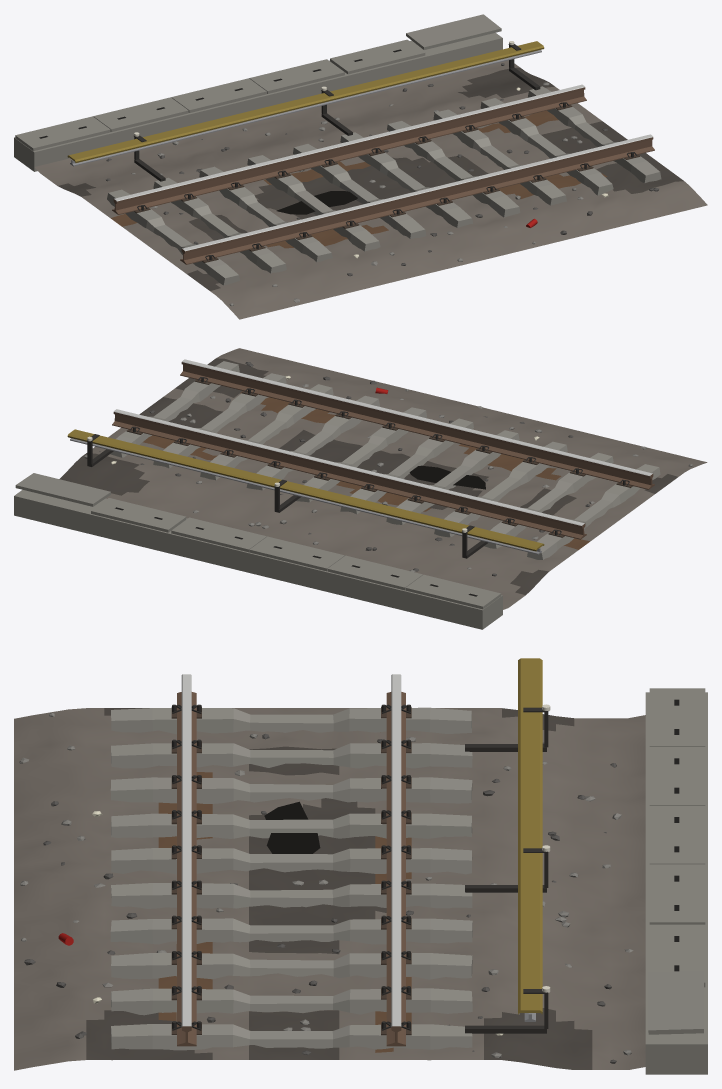
File: track_metro@1.glb
The picture shows the model from 3 angles, top to bottom: view 1: azimuth 30°, elevation 25°; view 2: azimuth 150°, elevation 25°; view 3: azimuth 270°, elevation 25°; orthographic projection. The views are drawn at different scales.
Parts seen in each view (by area): view 1: gleis_schotter, gleis_schiene-1, gleis_schiene1, gleis_trog, gleis_abdeckung, gleis_schwelle0, gleis_schwelle8, gleis_schwelle6, gleis_schwelle9, gleis_schwelle7, gleis_schwelle1, gleis_schwelle2 (+11 smaller); view 2: gleis_schotter, gleis_trog, gleis_schiene1, gleis_schiene-1, gleis_abdeckung, gleis_schwelle0, gleis_deckel0, gleis_deckel4, gleis_deckel1, gleis_deckel2, gleis_deckel3, gleis_deckel5 (+11 smaller); view 3: gleis_schotter, gleis_abdeckung, gleis_schwelle0, gleis_schwelle9, gleis_schwelle2, gleis_schiene-1, gleis_schiene1, gleis_schwelle4, gleis_schwelle7, gleis_schwelle6, gleis_schwelle5, gleis_schwelle8 (+11 smaller).
Boxes of the visible parts, bbox=[...] form: gleis_schotter: bbox=[34, 60, 707, 319]; gleis_schiene-1: bbox=[180, 134, 654, 264]; gleis_schiene1: bbox=[112, 84, 586, 214]; gleis_trog: bbox=[14, 33, 502, 171]; gleis_abdeckung: bbox=[67, 41, 544, 163]; gleis_schwelle0: bbox=[107, 189, 239, 285]; gleis_schwelle8: bbox=[480, 98, 613, 195]; gleis_schwelle6: bbox=[387, 121, 520, 217]; gleis_schwelle9: bbox=[528, 86, 661, 183]; gleis_schwelle7: bbox=[433, 109, 566, 205]; gleis_schwelle1: bbox=[153, 177, 286, 273]; gleis_schwelle2: bbox=[199, 166, 332, 262]; gleis_schotter: bbox=[59, 348, 707, 609]; gleis_trog: bbox=[14, 489, 502, 629]; gleis_schiene1: bbox=[112, 409, 586, 539]; gleis_schiene-1: bbox=[180, 359, 654, 489]; gleis_abdeckung: bbox=[67, 429, 544, 551]; gleis_schwelle0: bbox=[527, 464, 660, 559]; gleis_deckel0: bbox=[405, 574, 501, 609]; gleis_deckel4: bbox=[91, 498, 186, 532]; gleis_deckel1: bbox=[327, 555, 422, 590]; gleis_deckel2: bbox=[249, 536, 344, 571]; gleis_deckel3: bbox=[171, 517, 266, 552]; gleis_deckel5: bbox=[15, 473, 110, 506]; gleis_schotter: bbox=[14, 708, 645, 1070]; gleis_abdeckung: bbox=[518, 658, 542, 1014]; gleis_schwelle0: bbox=[111, 707, 471, 734]; gleis_schwelle9: bbox=[110, 1024, 472, 1060]; gleis_schwelle2: bbox=[110, 777, 472, 803]; gleis_schiene-1: bbox=[177, 674, 196, 1046]; gleis_schiene1: bbox=[386, 674, 405, 1046]; gleis_schwelle4: bbox=[111, 848, 472, 874]; gleis_schwelle7: bbox=[111, 953, 472, 979]; gleis_schwelle6: bbox=[110, 918, 472, 944]; gleis_schwelle5: bbox=[111, 883, 472, 908]; gleis_schwelle8: bbox=[111, 988, 472, 1015].
Bounding box in the file's own units: 6 × 0.55 × 5.
